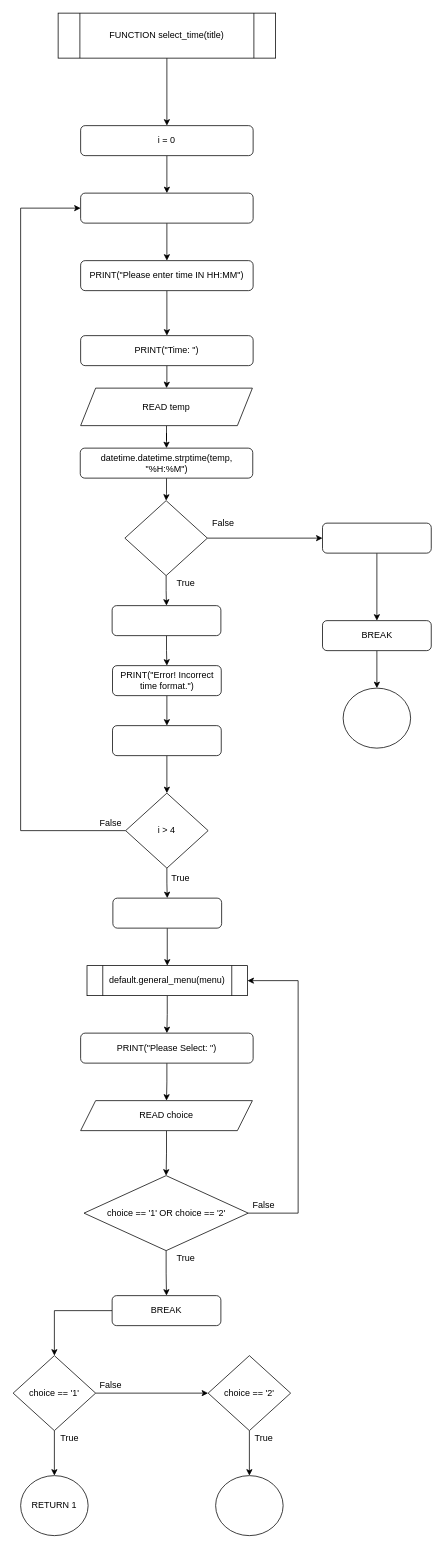
This 445x1549 diagram has some shape labels left out. The shapes that lost their labels are listed below. From the top down, each one's centre as x and y in pixels, then its label:
point (166, 207): PRINT(title)
point (165, 538): Value Error
point (376, 537): TRY
point (166, 620): EXCEPT
point (376, 717): RETURN TEMP
point (166, 740): i = i + 1
point (167, 912): DECLARE menu = ["Continue", "Return"]
point (249, 1505): RETURN 2
